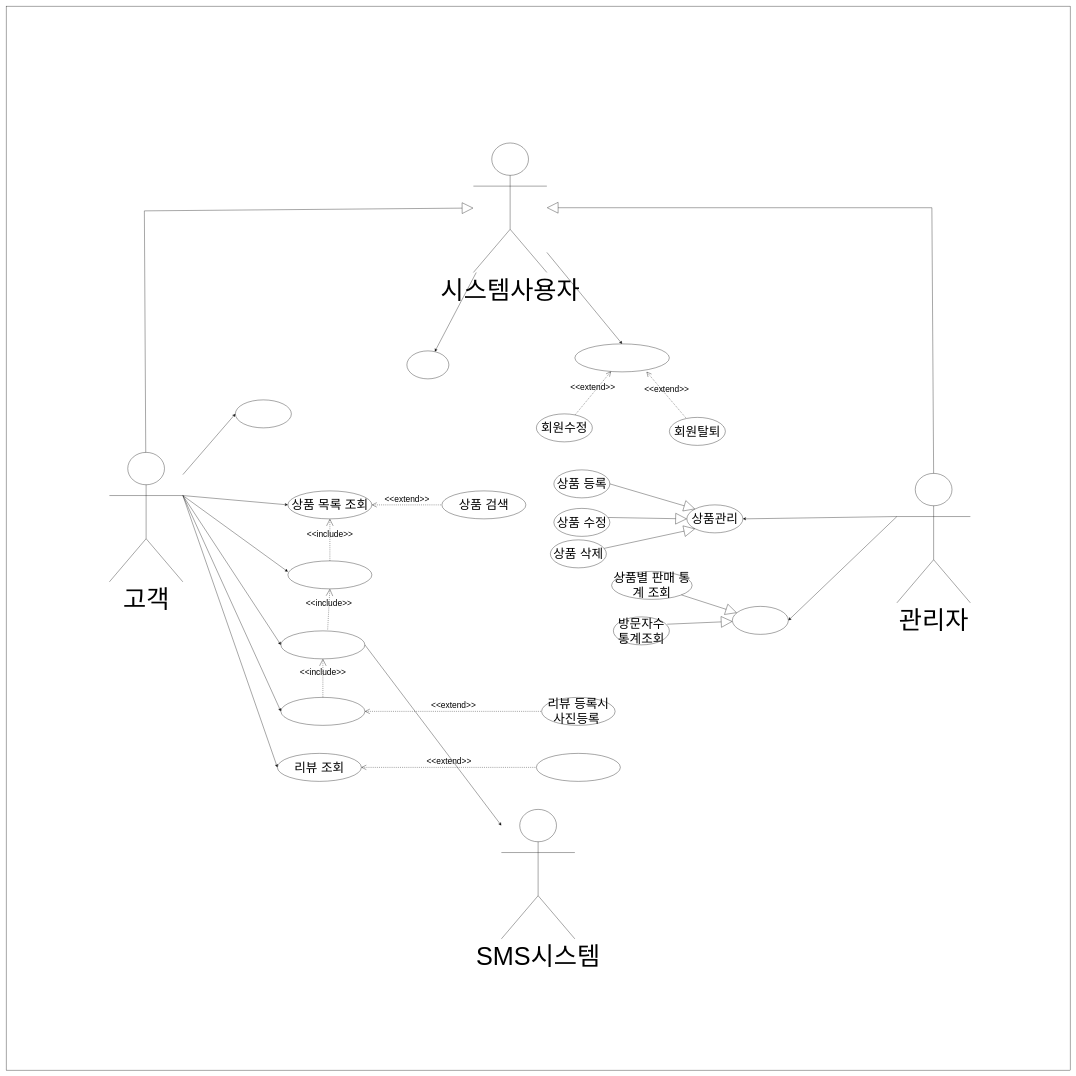
Some shapes in this 1076 by 1076 pixel diagram are drawn without their labels. Each missing label, with the centre of its shape:
"로그인" goes at (428,365).
"리뷰 검색" goes at (578,767).
"리뷰 등록" goes at (323,711).
"상품 구매" goes at (323,645).
"상품 상세 조회" goes at (330,575).
"통계 조회" goes at (760,620).
"회원가입" goes at (263,414).
"회원정보조회" goes at (622,358).
